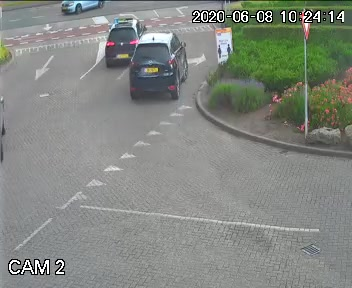car: (130, 22, 185, 107), (95, 9, 139, 68)
